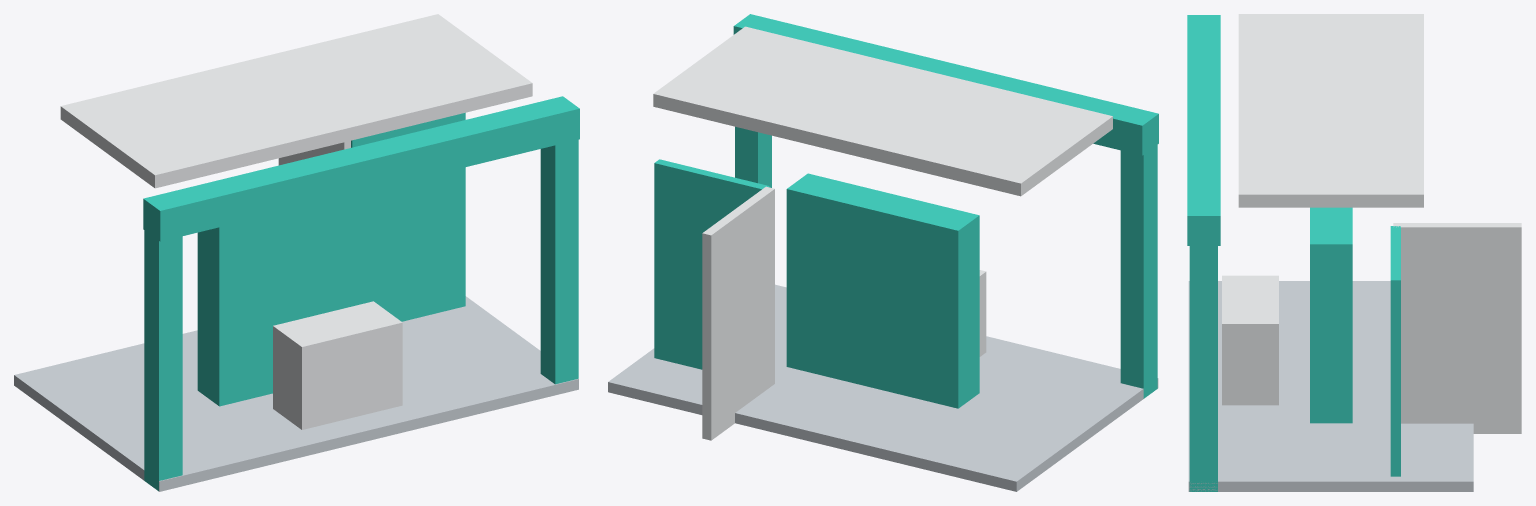
The picture shows the model from 3 angles, left to right: view 1: azimuth 30°, elevation 25°; view 2: azimuth 150°, elevation 25°; view 3: azimuth 270°, elevation 25°; orthographic projection. The views are drawn at different scales.
Visible parts, largest first — view 1: Exhibition Booth Concept; view 2: Exhibition Booth Concept; view 3: Exhibition Booth Concept.
Boxes of the visible parts, x1=… form: Exhibition Booth Concept: x1=14, y1=14, x2=579, y2=491; Exhibition Booth Concept: x1=608, y1=14, x2=1158, y2=491; Exhibition Booth Concept: x1=1187, y1=14, x2=1521, y2=491.
Size of the model in its own units: 5 by 3.34 by 3.52.
